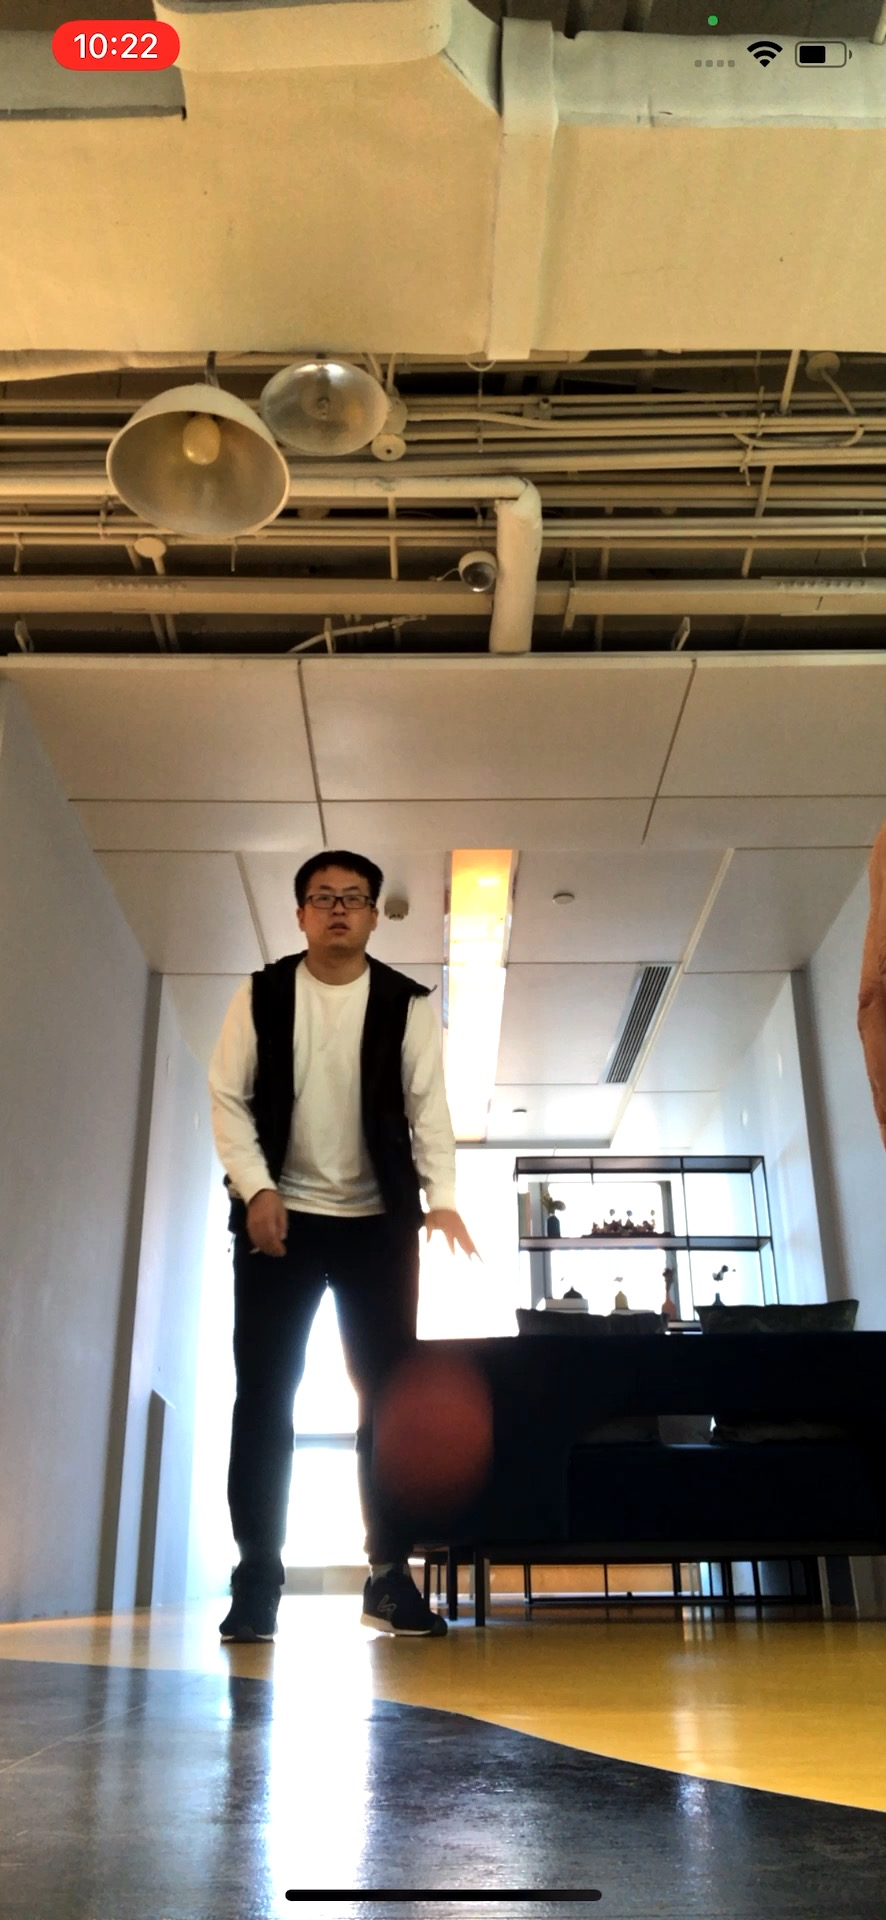ball: (370, 1356, 492, 1494)
